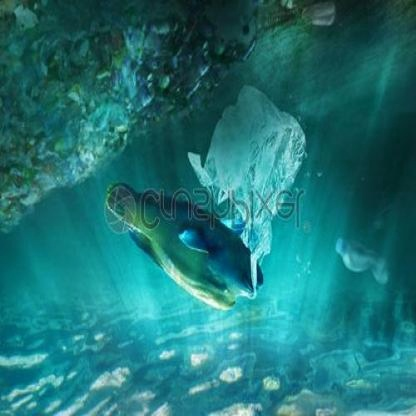pbag: (184, 80, 309, 302)
